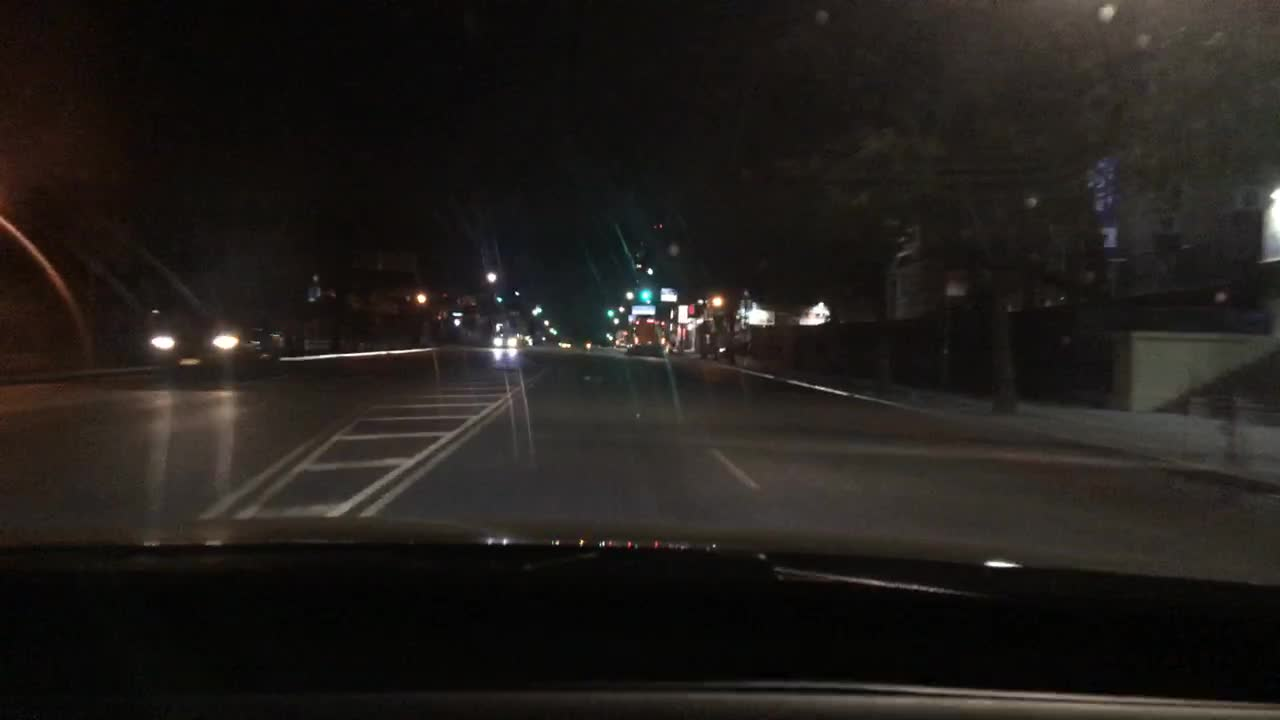bus: (625, 314, 666, 353)
car: (147, 302, 277, 367), (494, 328, 522, 349), (558, 334, 575, 348), (615, 328, 628, 346)
motor: (583, 343, 593, 352)
person: (609, 333, 618, 347)
rider: (585, 336, 593, 348)
traffic light: (640, 287, 652, 300), (416, 293, 429, 305), (712, 295, 723, 309), (606, 308, 615, 319)
traffic sign: (945, 272, 971, 294), (630, 304, 655, 316), (659, 286, 677, 302), (676, 304, 686, 322)
